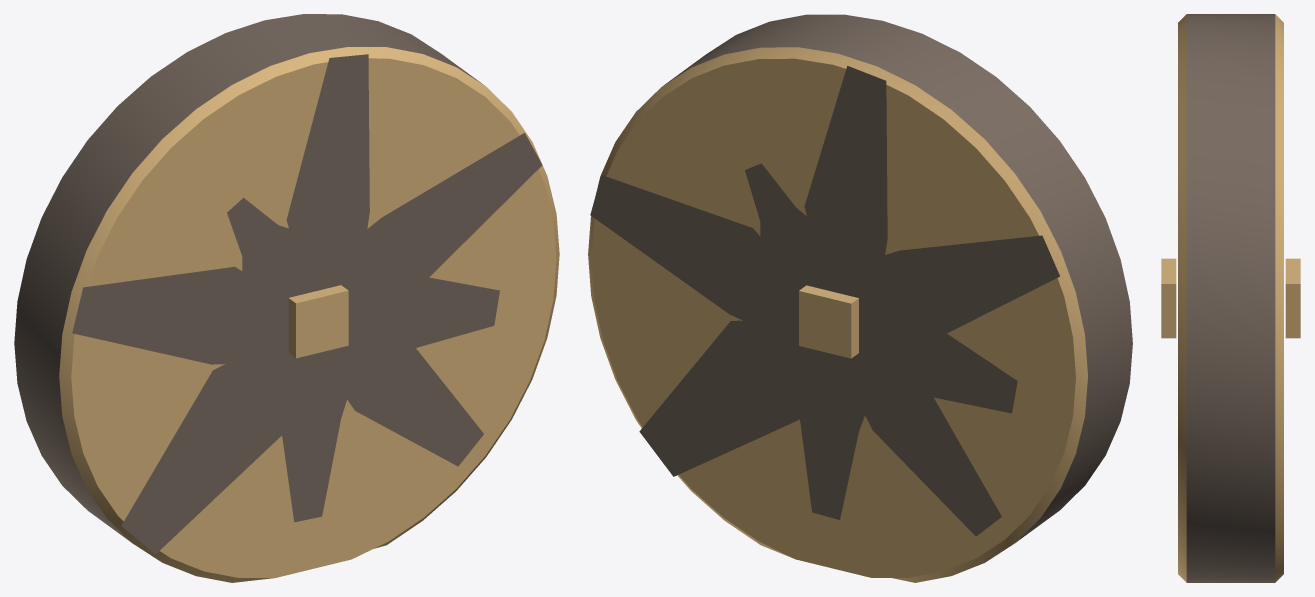
File: il-grande-disco.glb
The picture shows the model from 3 angles, left to right: view 1: azimuth 30°, elevation 25°; view 2: azimuth 150°, elevation 25°; view 3: azimuth 270°, elevation 25°; orthographic projection.
Parts seen in each view (by area): view 1: Il Grande Disco; view 2: Il Grande Disco; view 3: Il Grande Disco.
Boxes of the visible parts, box(x1,y1,x2,y2) form: Il Grande Disco: box(14, 14, 559, 582); Il Grande Disco: box(588, 14, 1132, 582); Il Grande Disco: box(1161, 14, 1300, 582).
Size of the model in its own units: 4.57 by 4.47 by 1.12.
